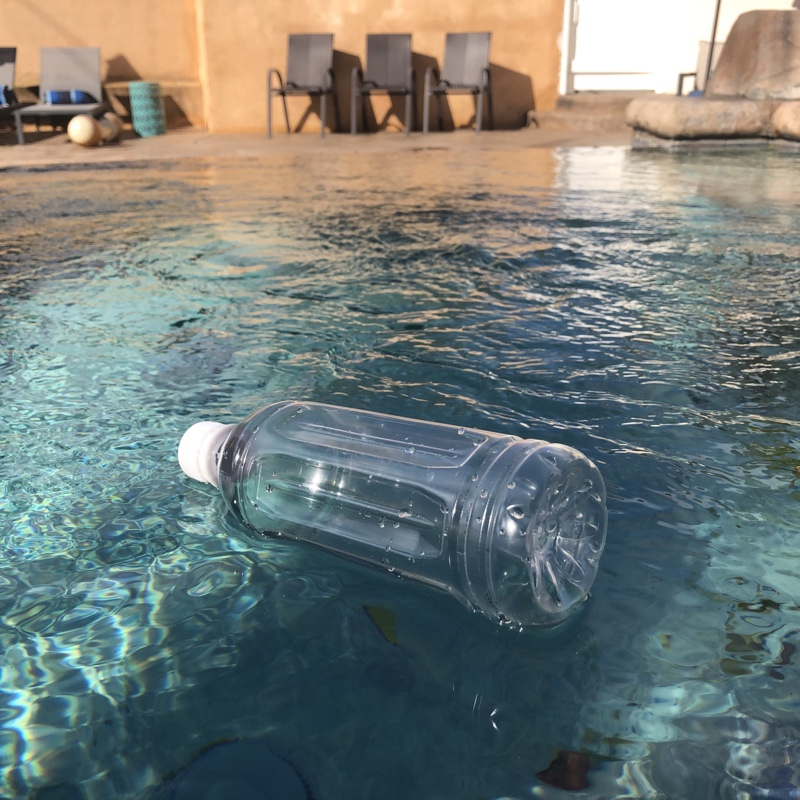Plastic Bottle: (175, 395, 612, 635)
